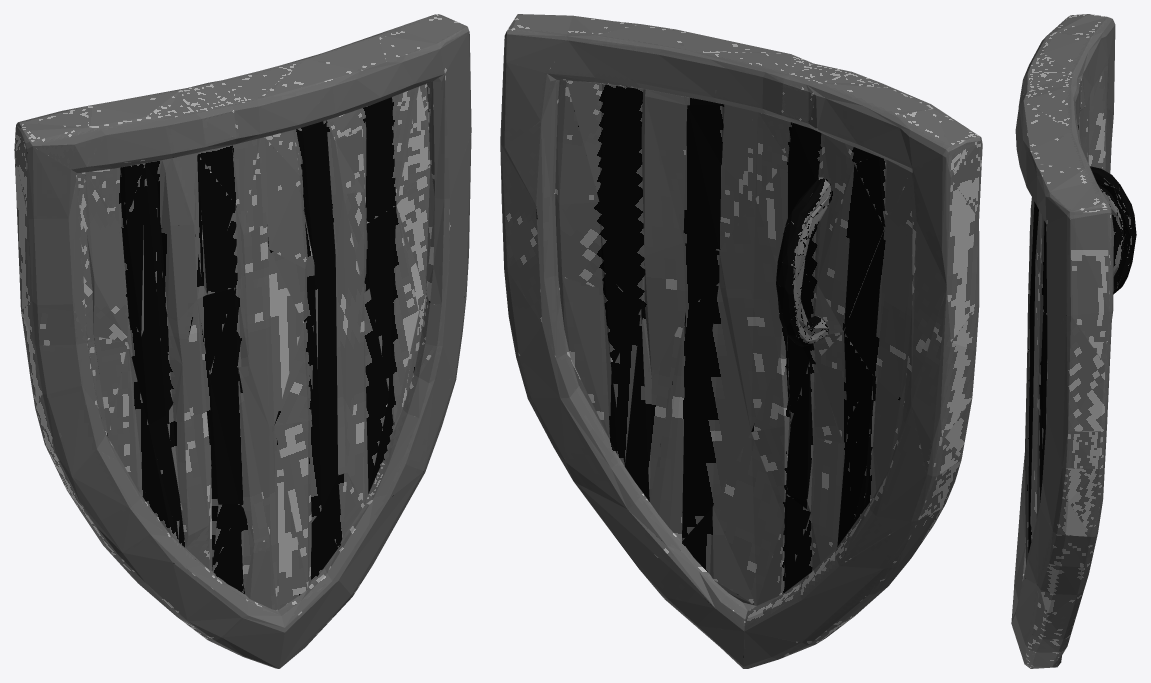
The picture shows the model from 3 angles, left to right: view 1: azimuth 30°, elevation 25°; view 2: azimuth 150°, elevation 25°; view 3: azimuth 270°, elevation 25°; orthographic projection. The views are drawn at different scales.
Parts seen in each view (by area): view 1: OBJ03f; view 2: OBJ03f; view 3: OBJ03f.
Part boxes in pixels (<box>): OBJ03f: <box>14,14,471,668</box>; OBJ03f: <box>500,14,982,668</box>; OBJ03f: <box>1011,14,1136,668</box>.
Size of the model in its own units: 0.2861 by 0.3579 by 0.0725.
Materials: 1 (1 with a texture image).
